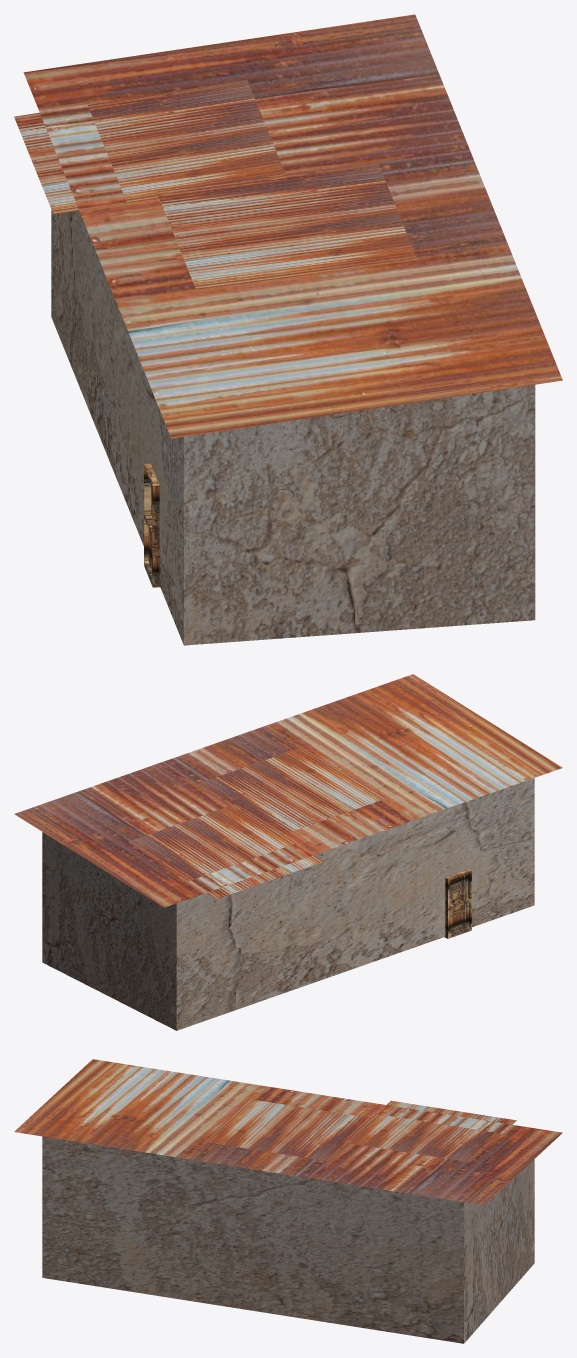
File: CASA DERECHA.glb
3 renders of one model, top to bottom at view 1: azimuth 30°, elevation 25°; view 2: azimuth 150°, elevation 25°; view 3: azimuth 270°, elevation 25°, orthographic. The views are drawn at different scales.
Visible parts, largest first — view 1: CASA DERECHA; view 2: CASA DERECHA; view 3: CASA DERECHA.
Part boxes in pixels (x1=…): CASA DERECHA: x1=14, y1=14, x2=562, y2=645; CASA DERECHA: x1=14, y1=674, x2=562, y2=1030; CASA DERECHA: x1=14, y1=1059, x2=562, y2=1343.
Bounding box in the file's own units: 104 × 43.98 × 148.
Materials: 3 (3 with a texture image).
